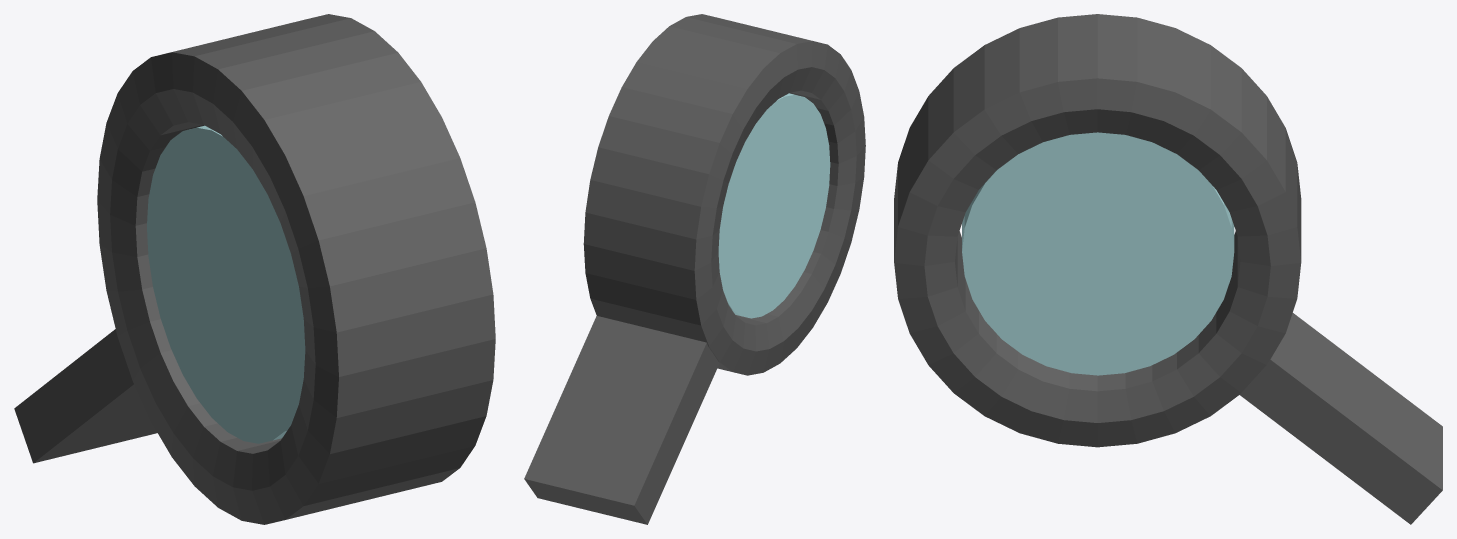
File: scoutcursor.fbx
3 views of the same model, side by side, from view 1: azimuth 30°, elevation 25°; view 2: azimuth 150°, elevation 25°; view 3: azimuth 270°, elevation 25° (orthographic). The views are drawn at different scales.
Parts seen in each view (by area): view 1: 円; view 2: 円; view 3: 円.
Part boxes in pixels (x1=…): 円: x1=14, y1=14, x2=495, y2=524; 円: x1=524, y1=14, x2=865, y2=524; 円: x1=894, y1=14, x2=1442, y2=524.
Size of the model in its own units: 121 by 362 by 403.
